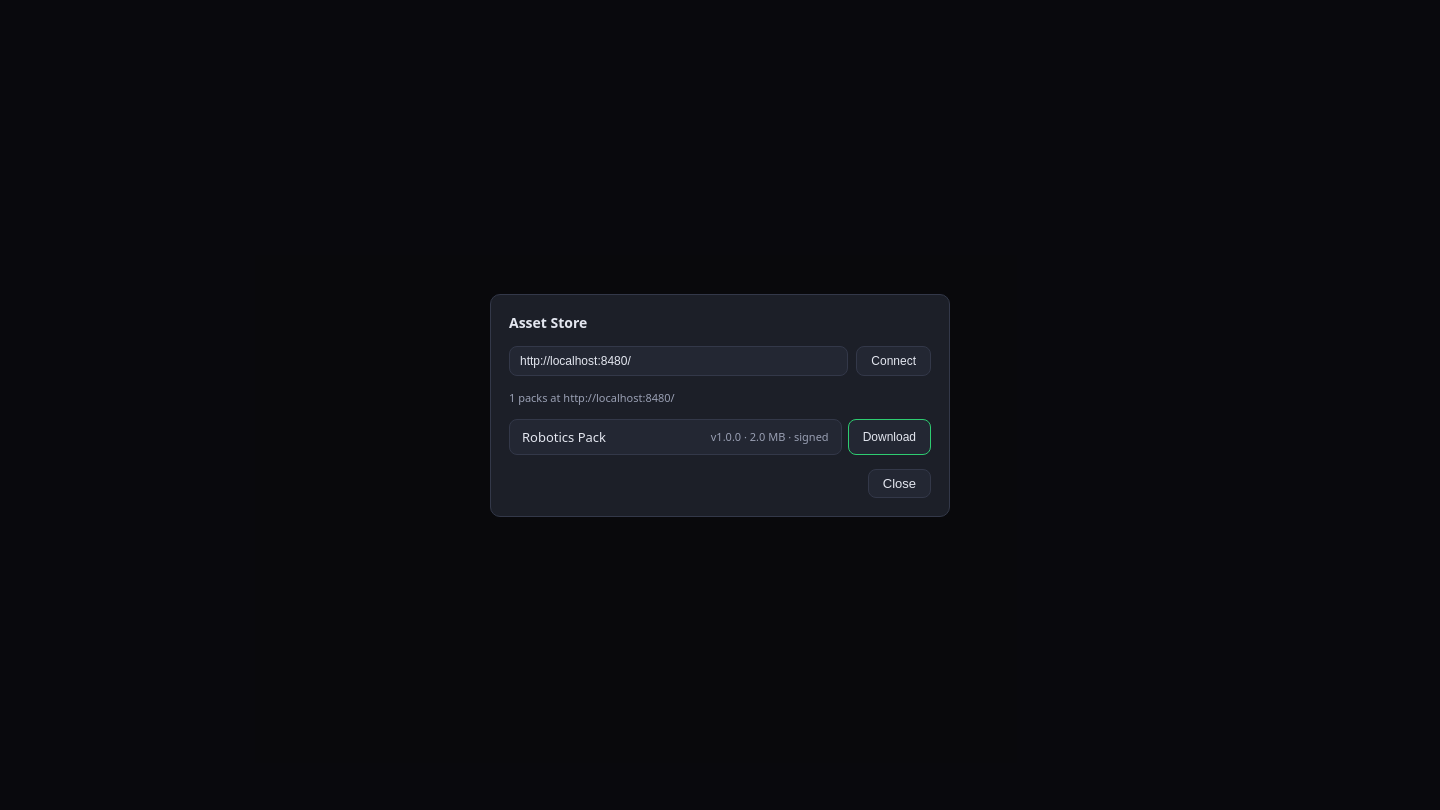
Test: AssetStore trust flow › warns differently for an unknown publisher than for no signature
The width and height of the screenshot is (1440, 810).
Click the button "Download" at (889, 436), box [848,418,931,454]
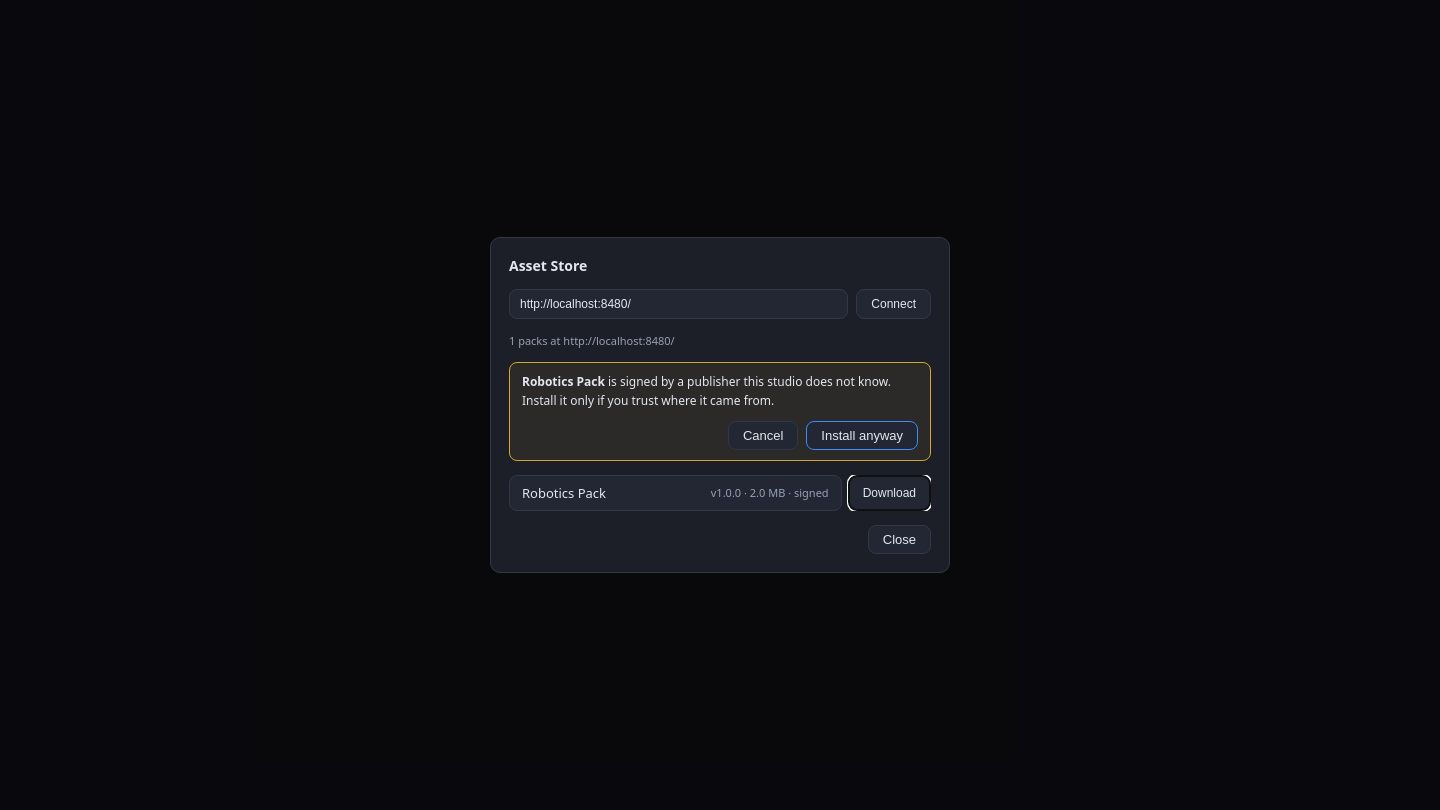
expect the text "publisher this studio does not know" is shown: met, box [608,373,891,390]
